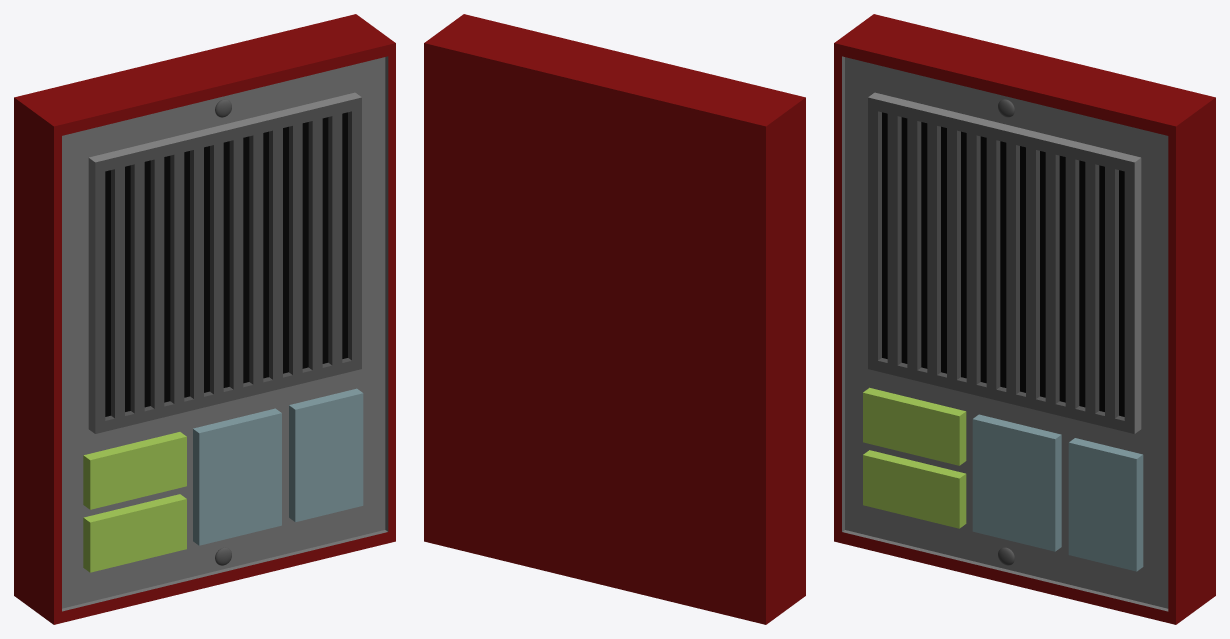
File: Intercom01.fbx
The picture shows the model from 3 angles, left to right: view 1: azimuth 30°, elevation 25°; view 2: azimuth 150°, elevation 25°; view 3: azimuth 330°, elevation 25°; orthographic projection.
Parts seen in each view (by area): view 1: Intercom_01; view 2: Intercom_01; view 3: Intercom_01.
Part boxes in pixels (x1,y1,x2,y2): Intercom_01: [14, 14, 395, 624]; Intercom_01: [424, 14, 805, 624]; Intercom_01: [834, 14, 1215, 624].
Bounding box in the file's own units: 6.66 × 9.27 × 1.47.
